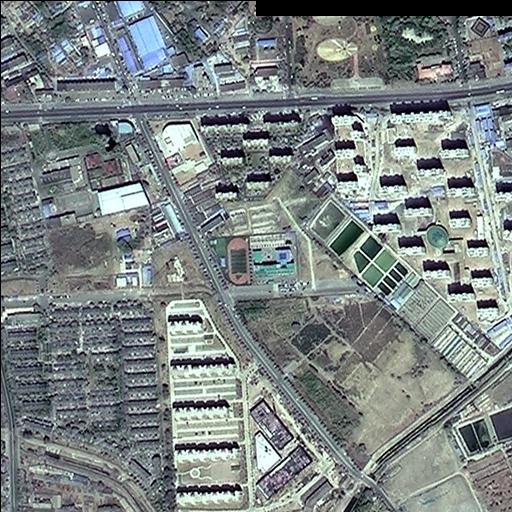school: (207, 233, 303, 289)
